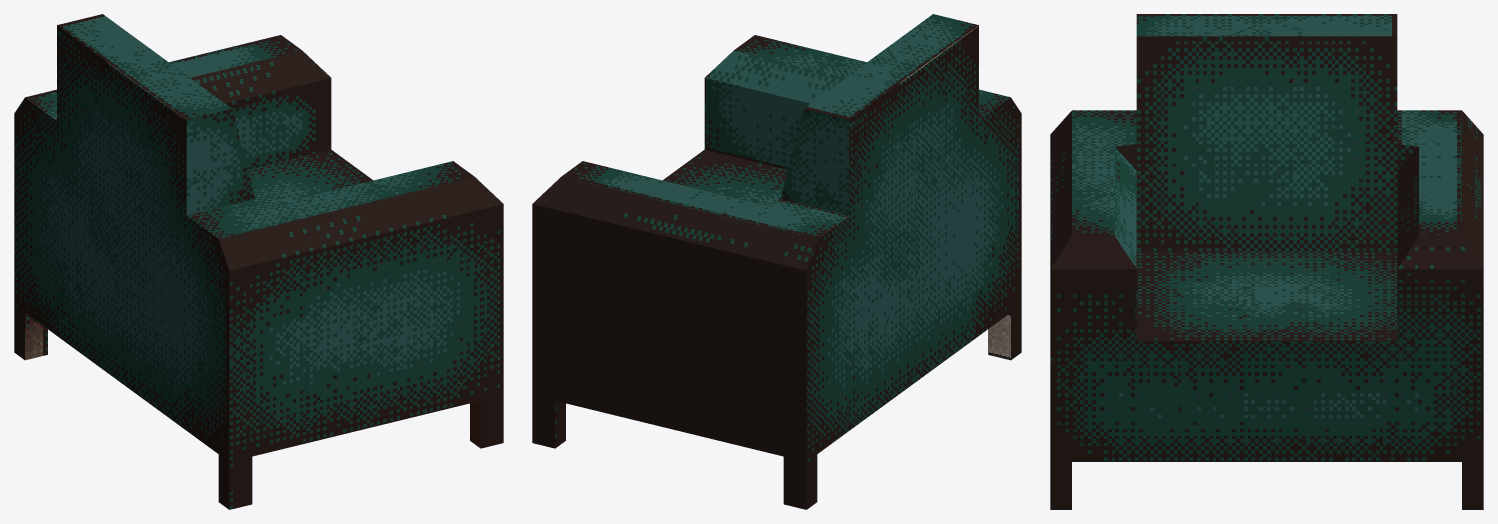
The model's file is comfy-chair.glb.
3 views of the same model, side by side, from view 1: azimuth 30°, elevation 25°; view 2: azimuth 150°, elevation 25°; view 3: azimuth 270°, elevation 25° (orthographic).
Visible parts, largest first — view 1: comfy-chair-col; view 2: comfy-chair-col; view 3: comfy-chair-col.
Part boxes in pixels (bbox=[...]): comfy-chair-col: bbox=[14, 14, 503, 509]; comfy-chair-col: bbox=[532, 14, 1021, 509]; comfy-chair-col: bbox=[1050, 14, 1483, 509].
Size of the model in its own units: 0.6 by 0.75 by 0.8149.
1 material, 1 textured.
